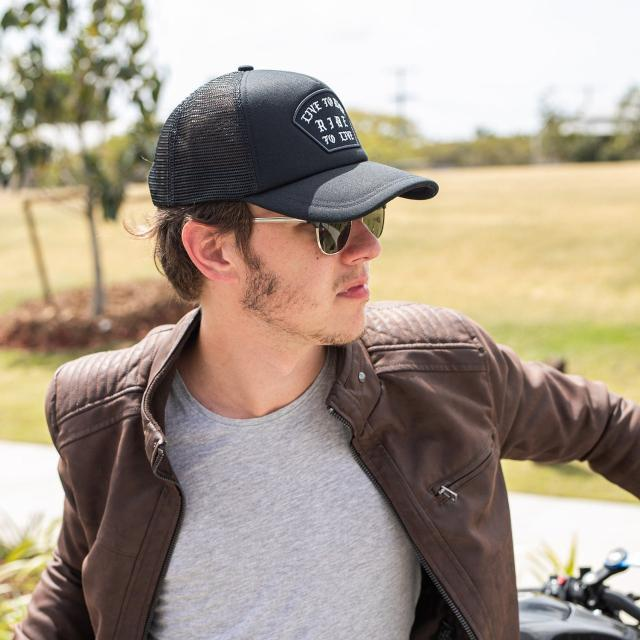Cap: (146, 65, 440, 223)
